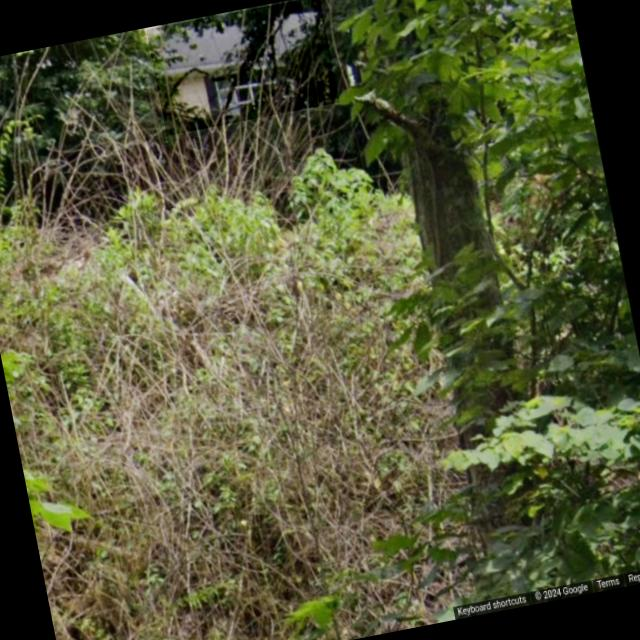House: (146, 0, 339, 136)
